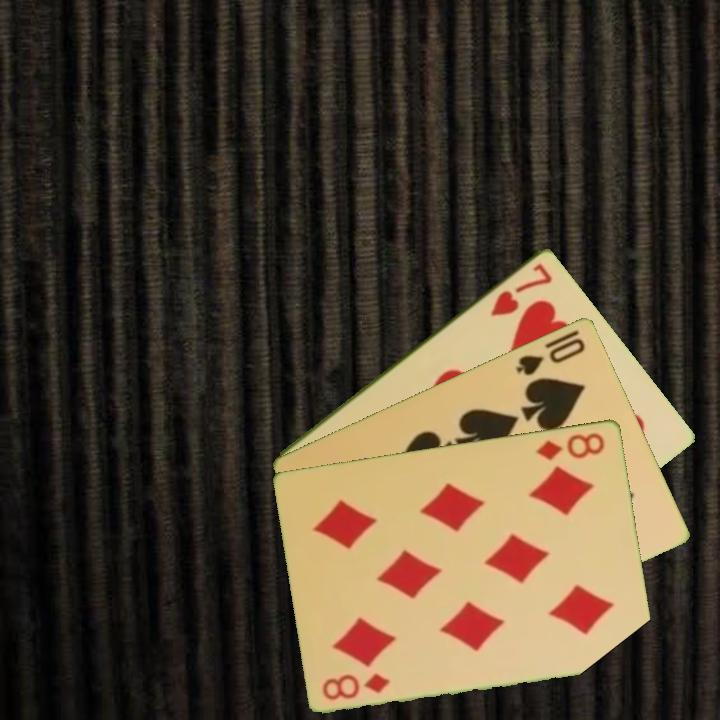10s: (512, 333, 589, 378)
7h: (486, 259, 556, 319)
8d: (532, 428, 608, 463), (319, 669, 393, 703)
